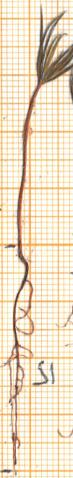flower: (18, 0, 73, 95)
root: (4, 245, 43, 477)
stem: (11, 85, 44, 245)
